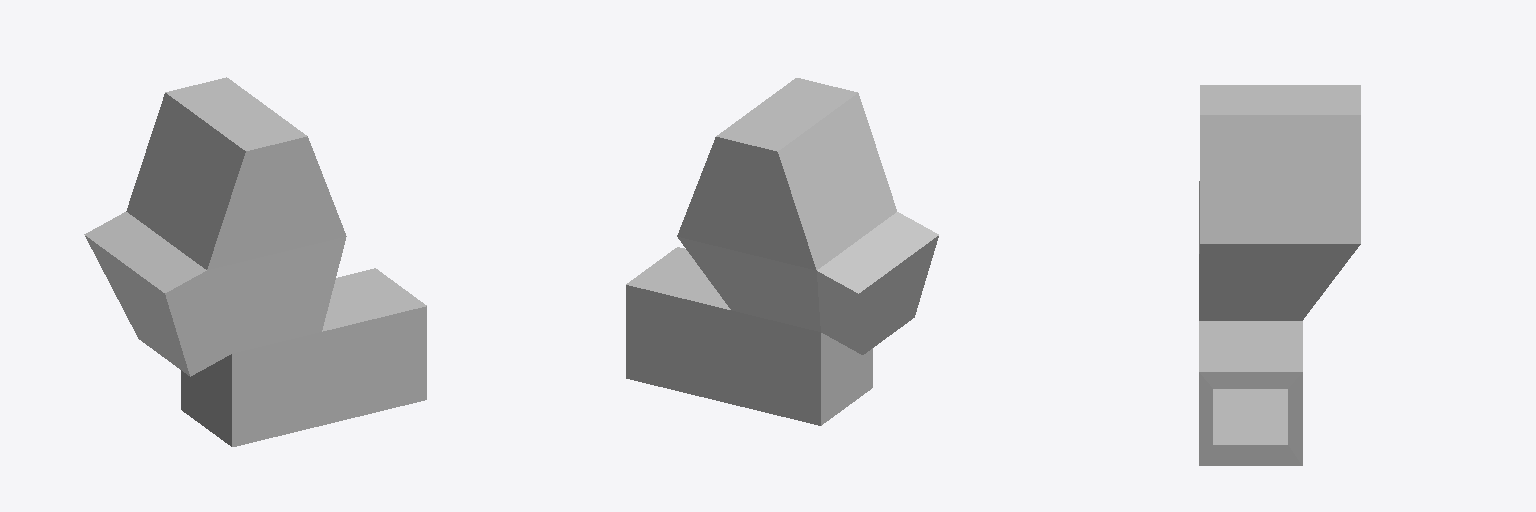
The model's file is debug_0050_col.obj.
3 renders of one model, left to right at view 1: azimuth 30°, elevation 25°; view 2: azimuth 150°, elevation 25°; view 3: azimuth 270°, elevation 25°, orthographic.
Parts seen in each view (by area): view 1: Cube.121_Cube.185; view 2: Cube.121_Cube.185; view 3: Cube.121_Cube.185.
Boxes of the visible parts, box(x1,y1,x2,y2) form: Cube.121_Cube.185: box(84, 77, 426, 446); Cube.121_Cube.185: box(626, 78, 938, 425); Cube.121_Cube.185: box(1199, 85, 1360, 465).
Bounding box in the file's own units: 87.83 × 93.5 × 46.95.